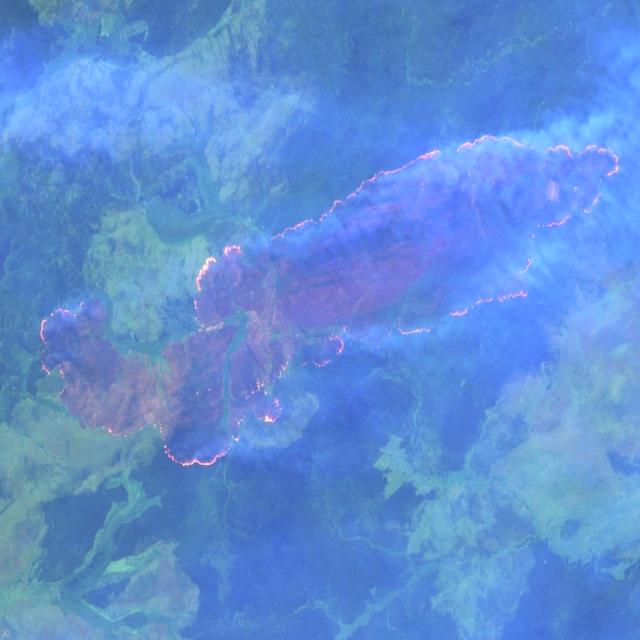fire: (0, 124, 640, 473)
